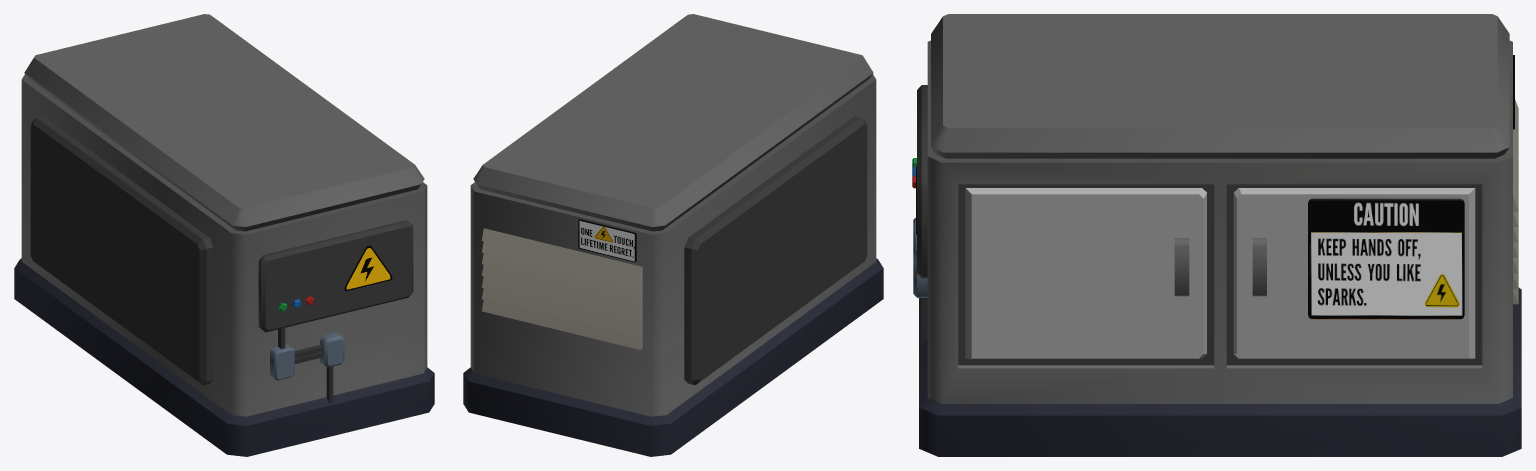
File: Generator_1_B.glb
The picture shows the model from 3 angles, left to right: view 1: azimuth 30°, elevation 25°; view 2: azimuth 150°, elevation 25°; view 3: azimuth 270°, elevation 25°; orthographic projection. The views are drawn at different scales.
Parts seen in each view (by area): view 1: Generator_1_B; view 2: Generator_1_B; view 3: Generator_1_B.
Part boxes in pixels (bbox=[...]): Generator_1_B: bbox=[14, 14, 434, 456]; Generator_1_B: bbox=[463, 14, 883, 456]; Generator_1_B: bbox=[912, 14, 1521, 456].
Size of the model in its own units: 1.62 by 1.74 by 3.01.
3 materials, 3 textured.
